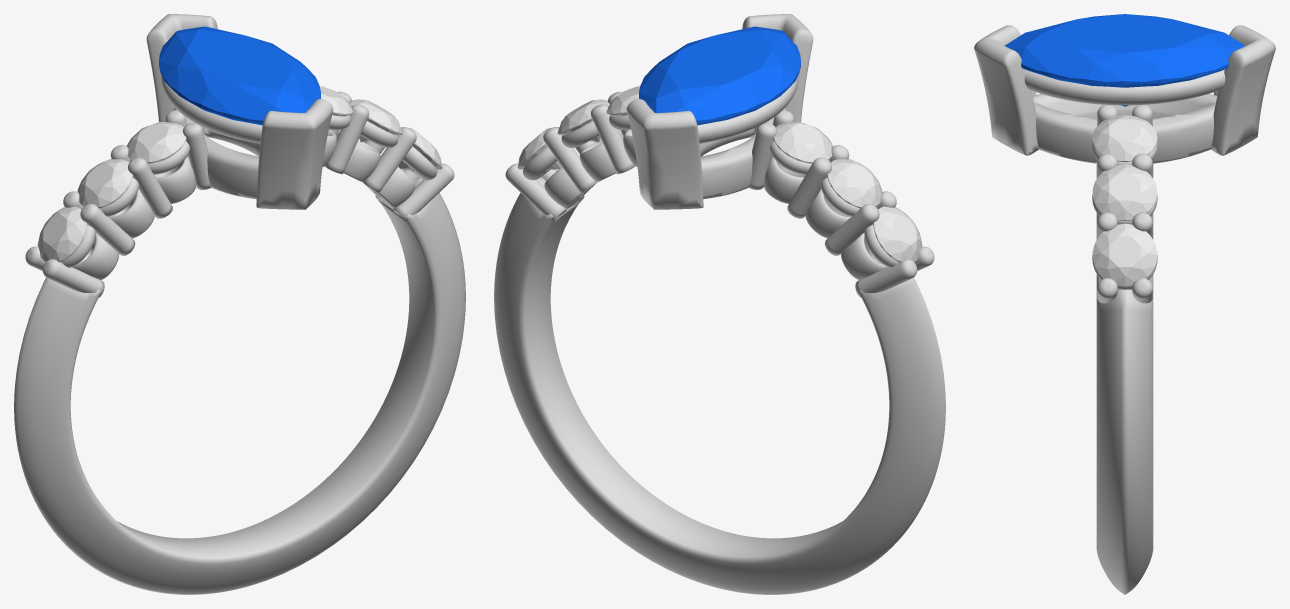
Rendered from bluesapphire-marquise-platinum-protectededges2prongs-knifeedge-7stone.glb.
3 renders of one model, left to right at view 1: azimuth 30°, elevation 25°; view 2: azimuth 150°, elevation 25°; view 3: azimuth 270°, elevation 25°, orthographic.
Parts seen in each view (by area): view 1: metal, stone, side, side.003, side.004, side.006, side.005; view 2: metal, stone, side, side.003, side.004, side.006, side.005; view 3: metal, stone, side.005, side.006, side.007.
Part boxes in pixels (x1,y1,x2,y2): metal: [14, 14, 465, 594]; stone: [159, 26, 320, 125]; side: [37, 206, 86, 262]; side.003: [77, 159, 132, 208]; side.004: [126, 122, 186, 163]; side.006: [350, 99, 402, 142]; side.005: [398, 127, 442, 169]; metal: [494, 14, 945, 594]; stone: [639, 26, 800, 125]; side: [873, 206, 922, 262]; side.003: [827, 159, 882, 208]; side.004: [773, 122, 833, 163]; side.006: [557, 99, 609, 142]; side.005: [517, 127, 561, 169]; metal: [974, 25, 1275, 594]; stone: [1004, 14, 1245, 106]; side.005: [1092, 223, 1157, 286]; side.006: [1092, 164, 1157, 220]; side.007: [1092, 114, 1157, 162].
Size of the model in its own units: 20.5 by 22.93 by 11.69.
